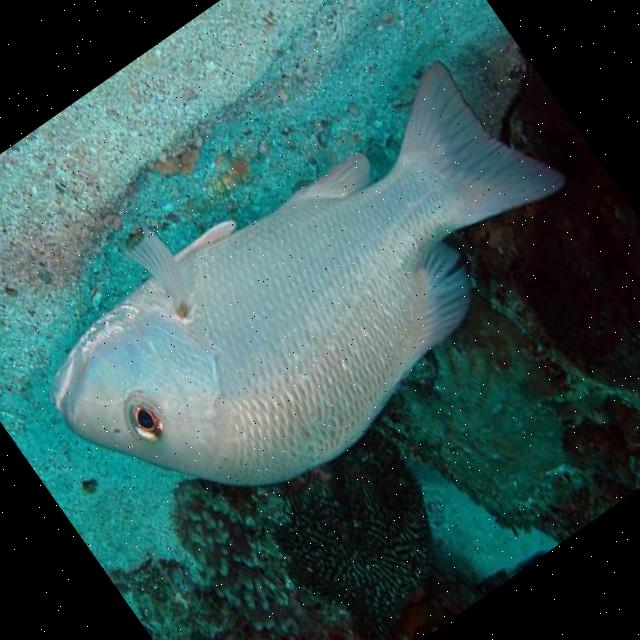ikan: (0, 8, 624, 576)
